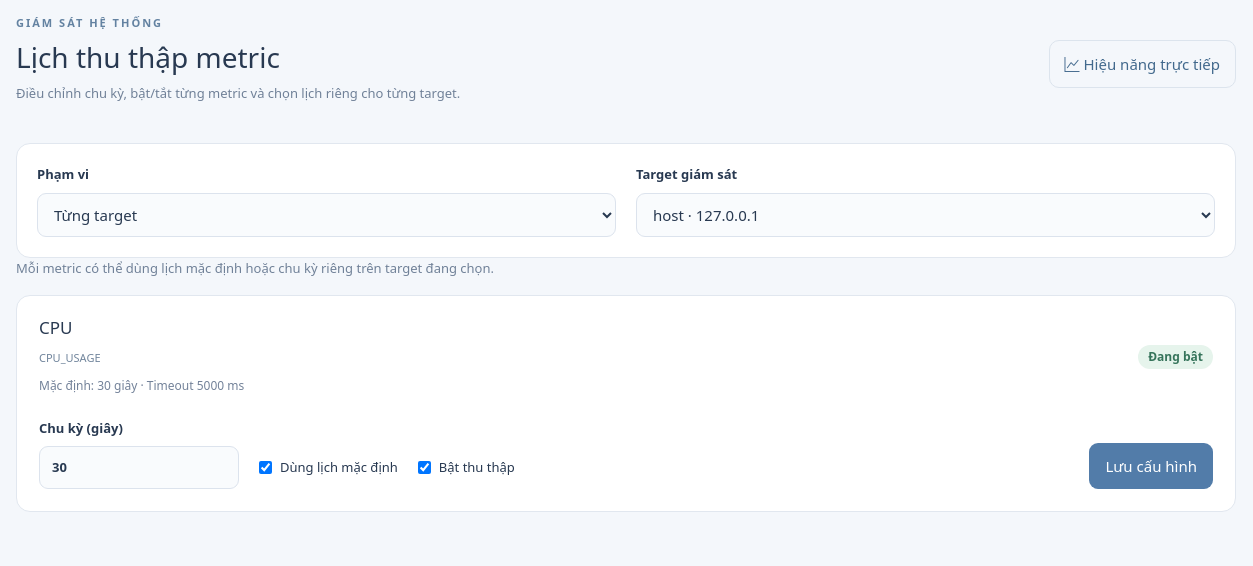
it: validates schedules and displays failed saves
The width and height of the screenshot is (1253, 566).
Click the checkbox labelled "Dùng lịch mặc định": (266, 468) [259, 461, 272, 474]
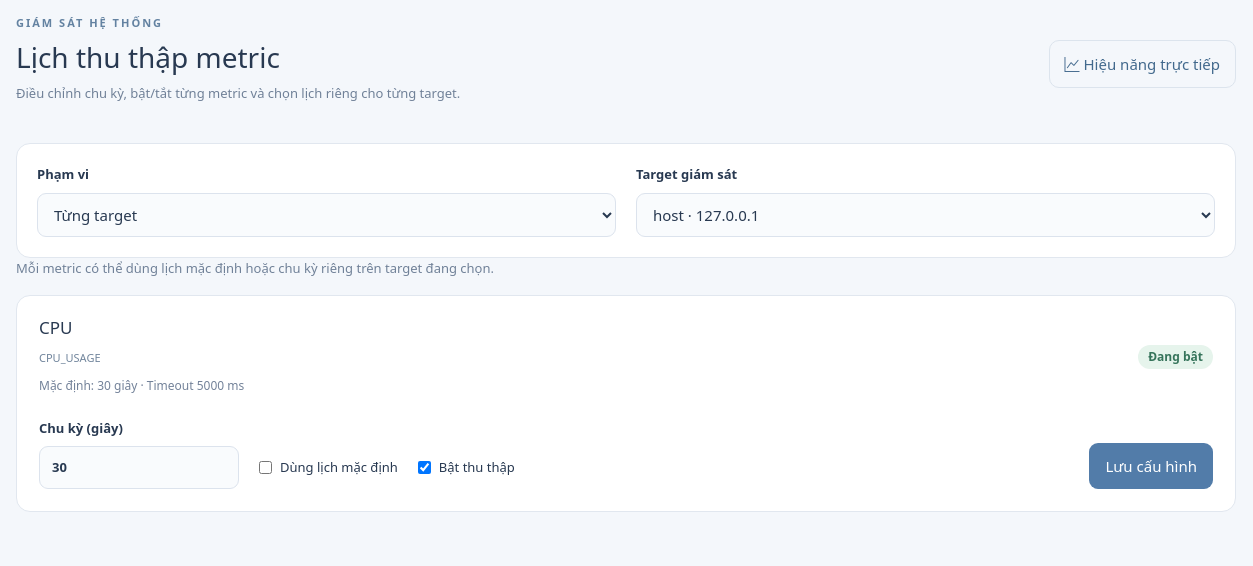
Replace the text in the number field with id "seconds-CPU_USAGE" with "1": (139, 468) [39, 446, 239, 489]
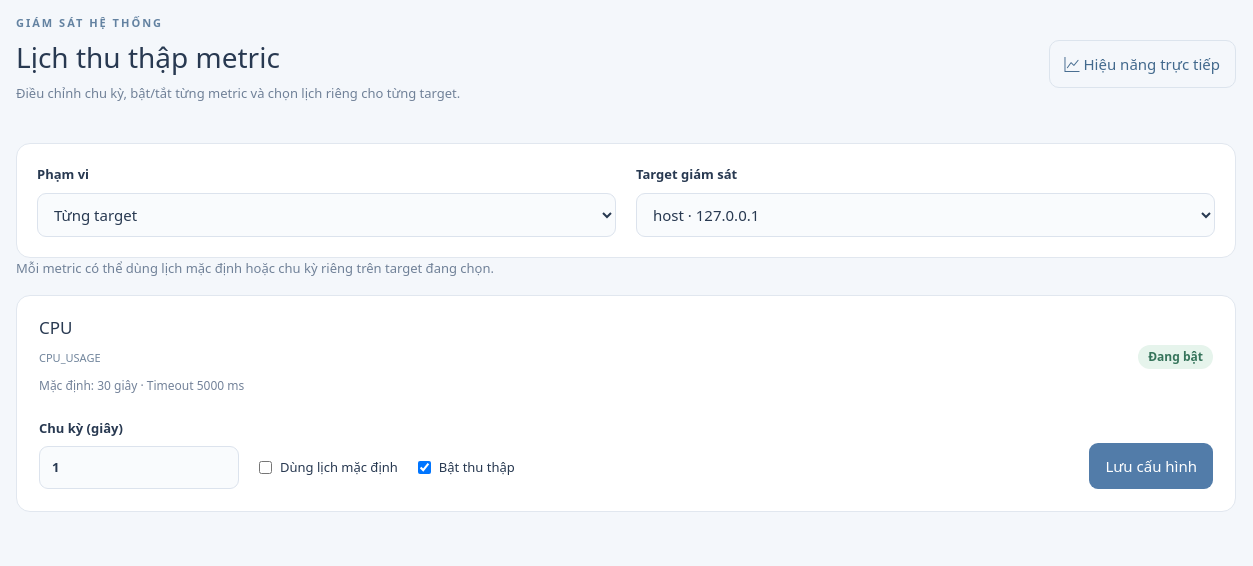
Click the button "Lưu cấu hình": (1151, 466) [1089, 443, 1213, 489]
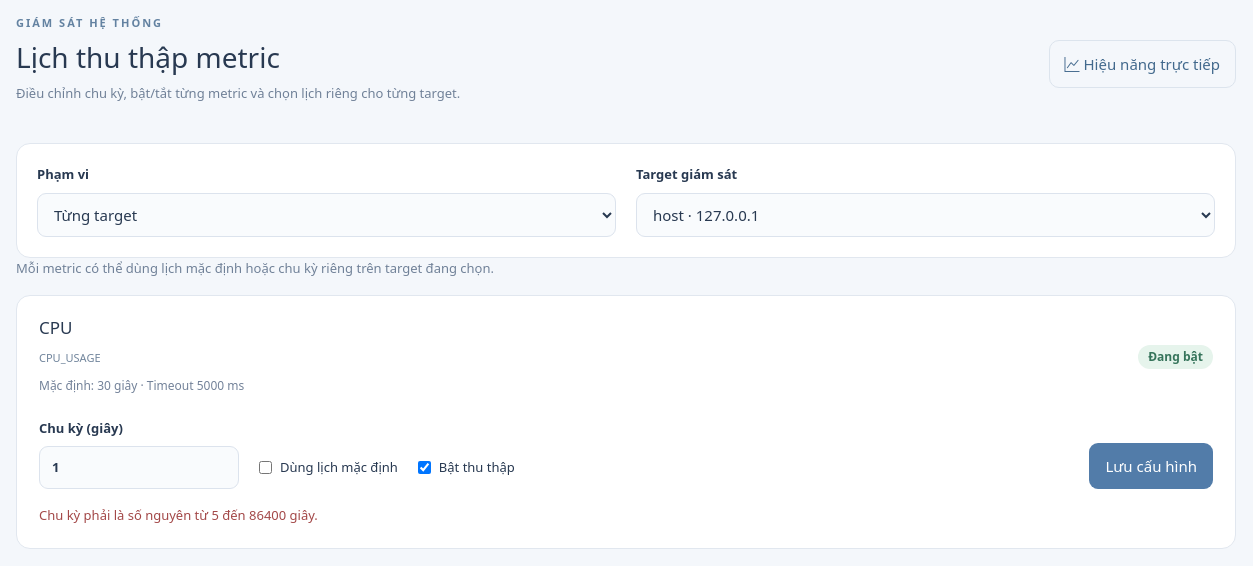
Check: the message "Chu kỳ phải là số nguyên từ 5 đến 86400 giây." is shown, box [39, 506, 318, 524]
Replace the text in the number field with id "seconds-CPU_USAGE" with "60": (139, 468) [39, 446, 239, 489]
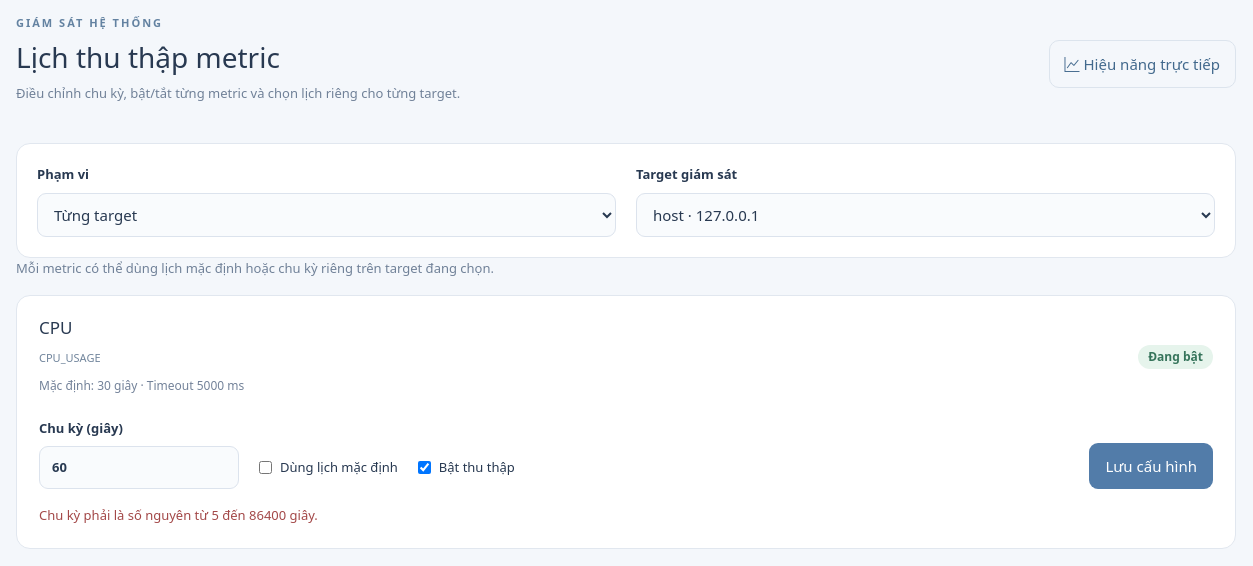
Click the button "Lưu cấu hình": (1151, 466) [1089, 443, 1213, 489]
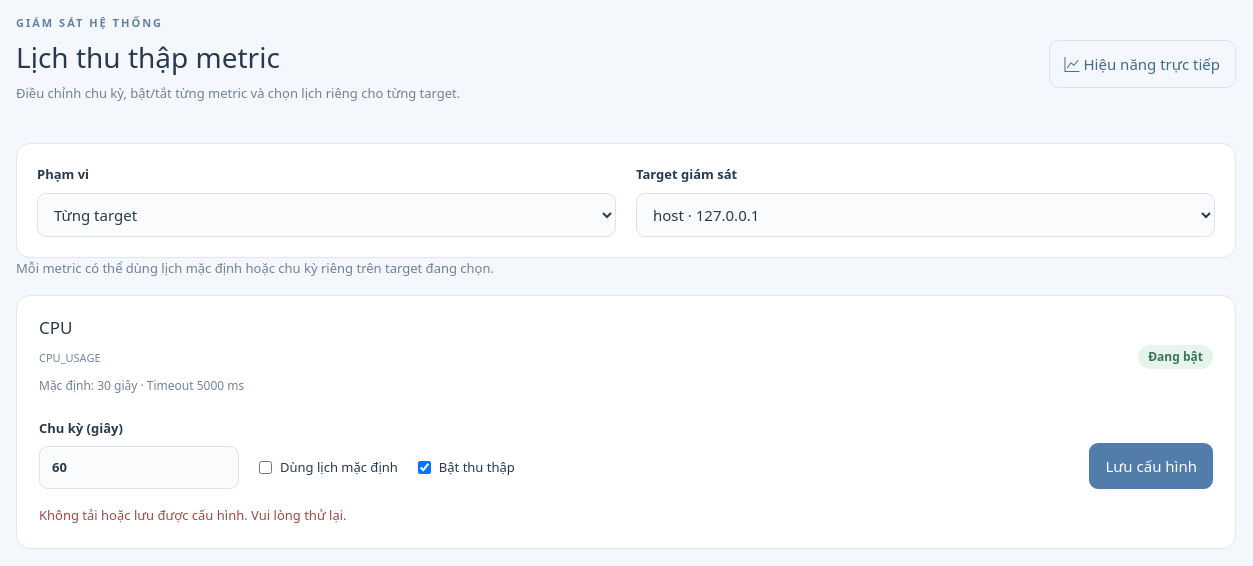
Check: the message "Không tải hoặc lưu được cấu hình. Vui lòng thử lại." is shown, box [39, 506, 346, 524]
